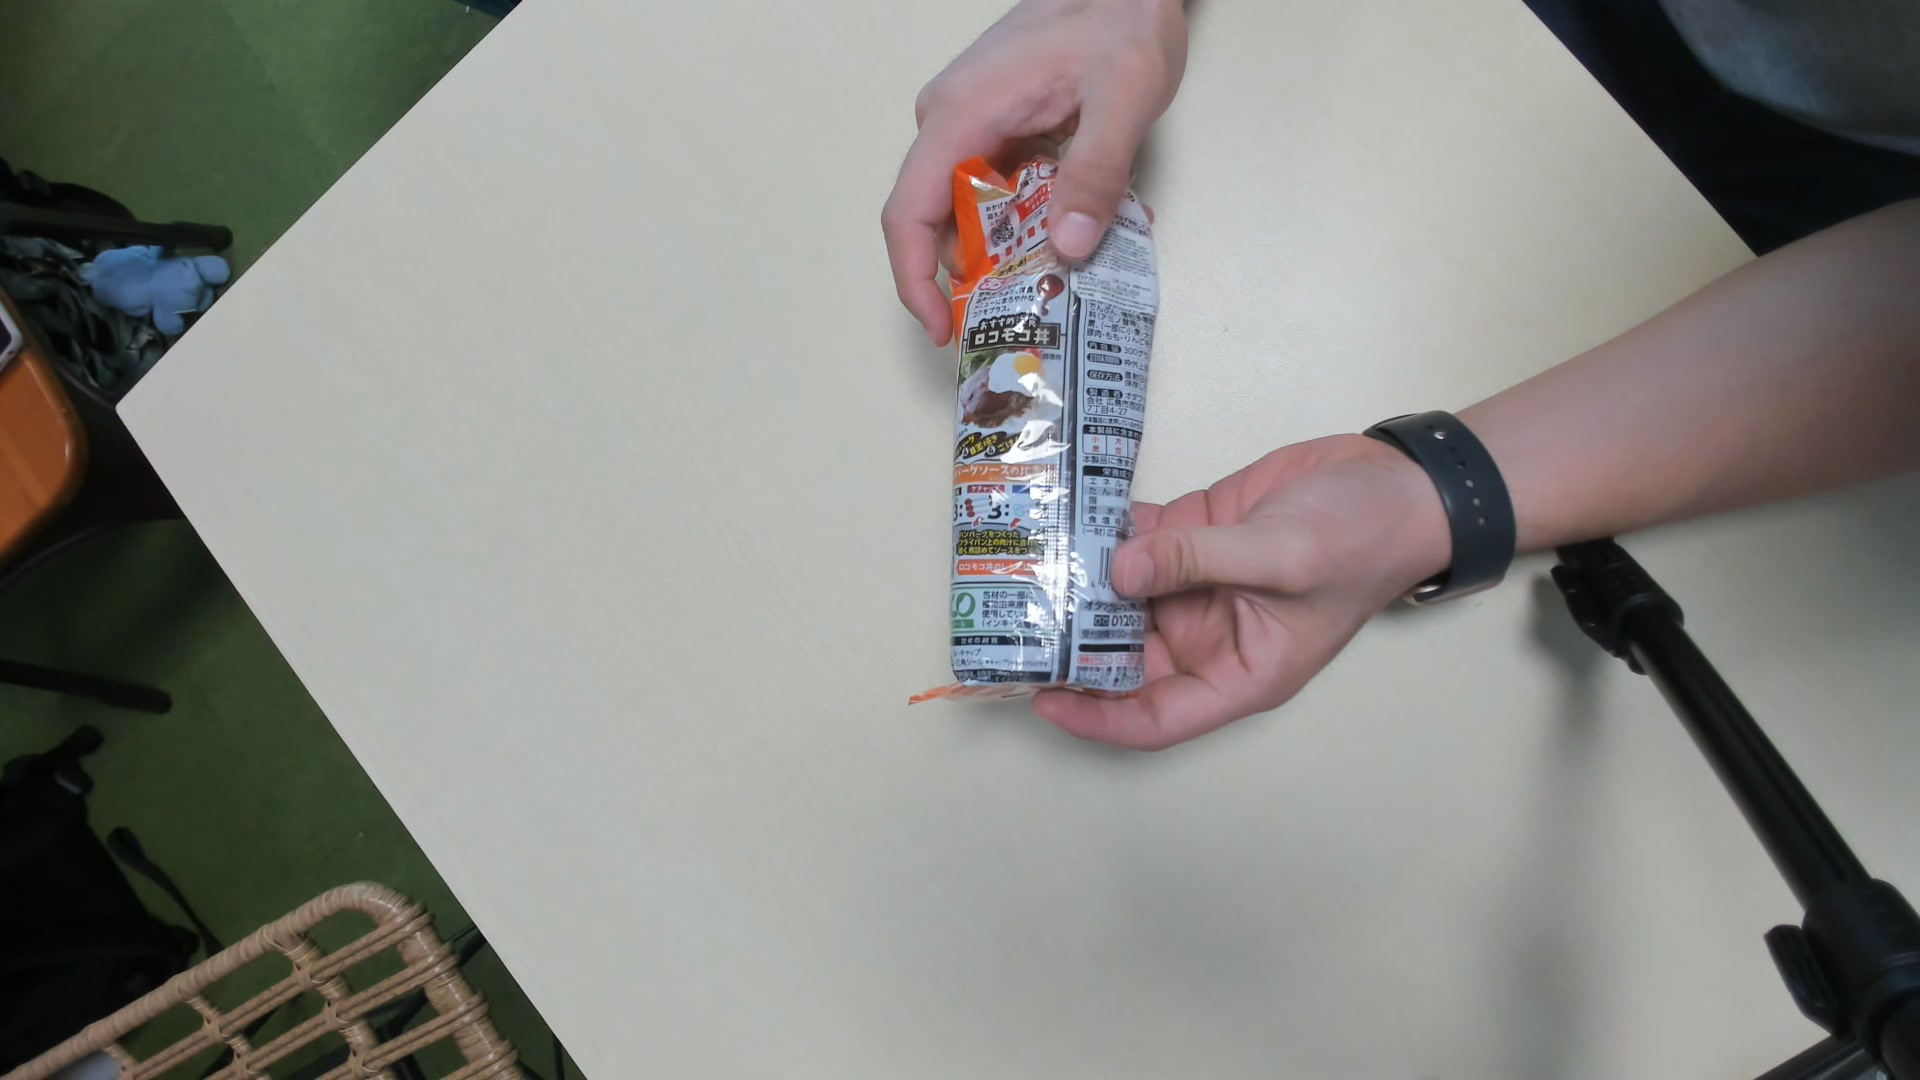OtherSauceDressing_300-399g_NonHalal_NonHealthy: (942, 157, 1160, 707)
